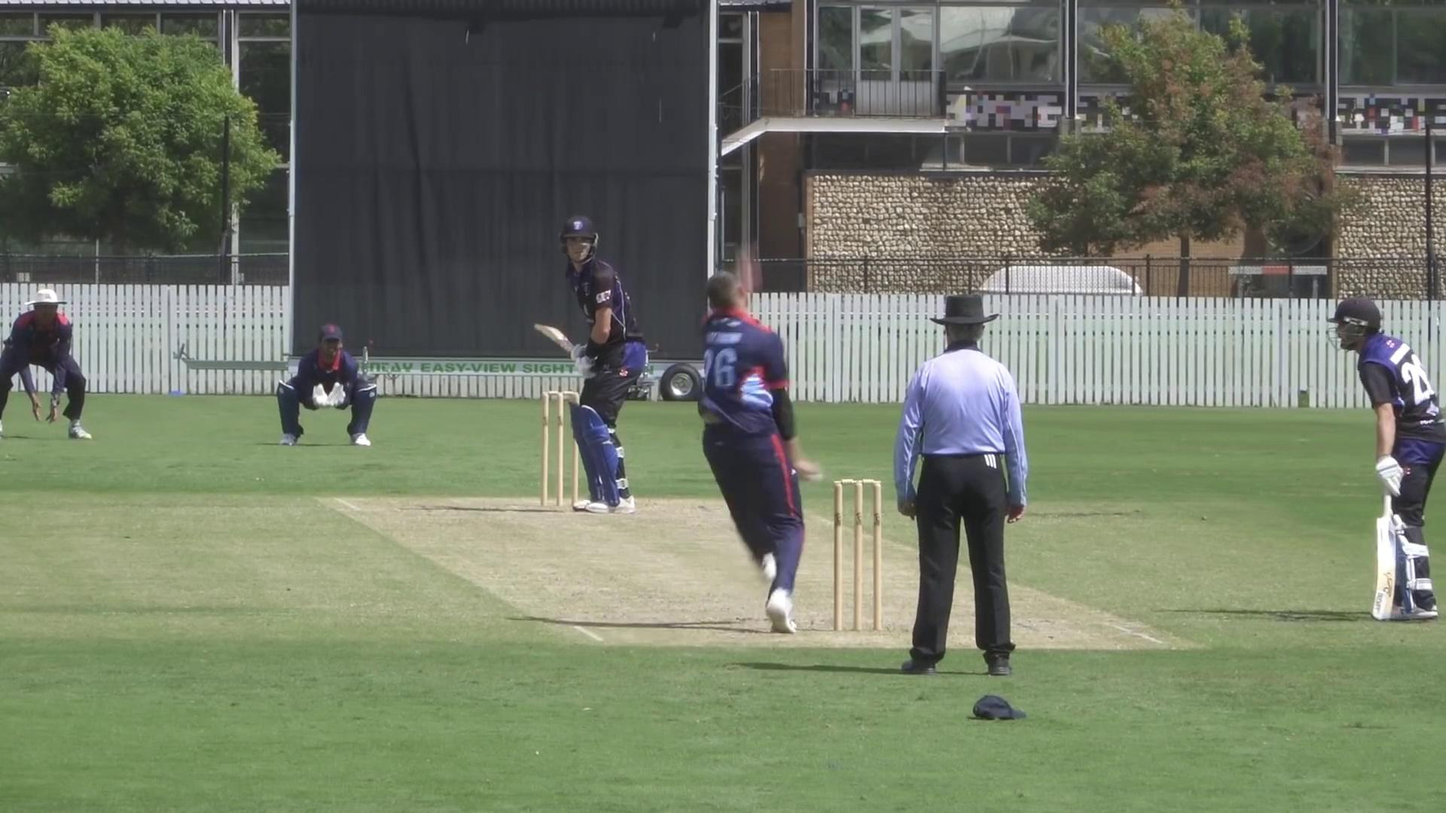ball: (803, 463, 829, 489)
